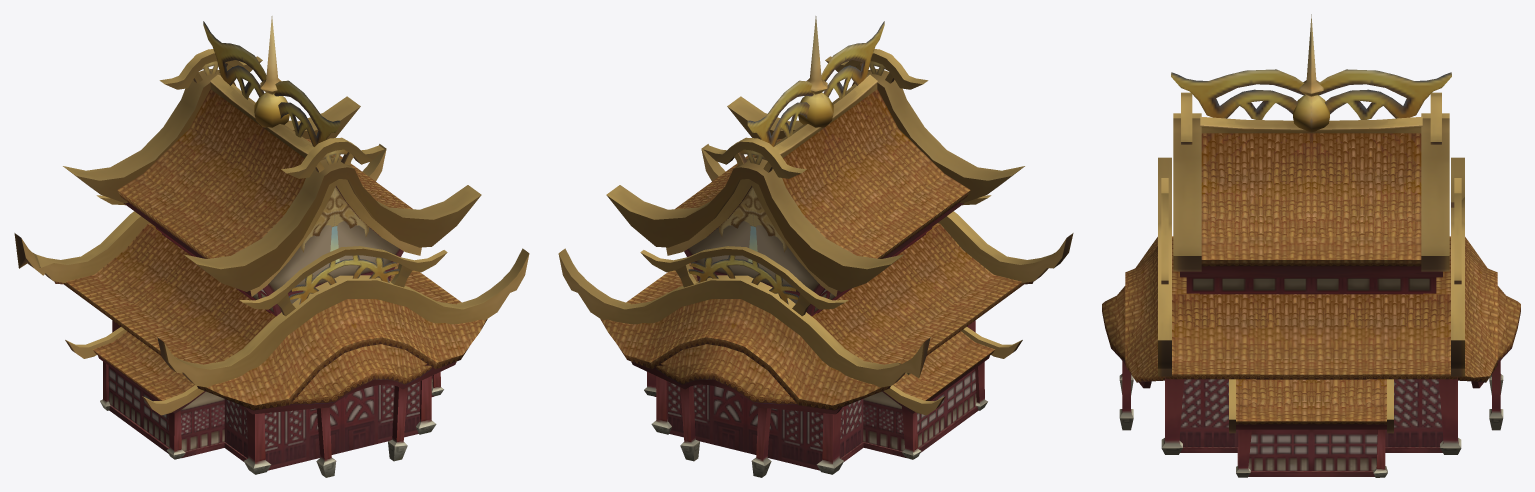
File: bx_building_005.FBX
3 views of the same model, side by side, from view 1: azimuth 30°, elevation 25°; view 2: azimuth 150°, elevation 25°; view 3: azimuth 270°, elevation 25° (orthographic). The views are drawn at different scales.
Parts seen in each view (by area): view 1: bx_building_005; view 2: bx_building_005; view 3: bx_building_005.
Part boxes in pixels (x1,y1,x2,y2): bx_building_005: [14, 16, 529, 477]; bx_building_005: [558, 16, 1073, 477]; bx_building_005: [1102, 14, 1520, 477].
Bounding box in the file's own units: 1337 × 1355 × 1295.
